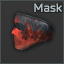Neoprene mask: (0, 0, 64, 64)
